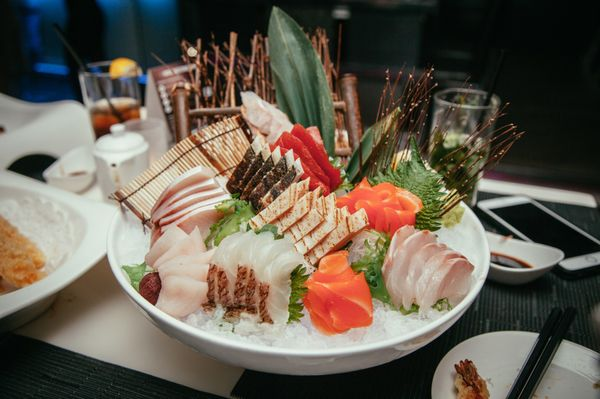sandwich: (506, 306, 576, 399)
sushi: (0, 171, 117, 333), (487, 246, 565, 286)
